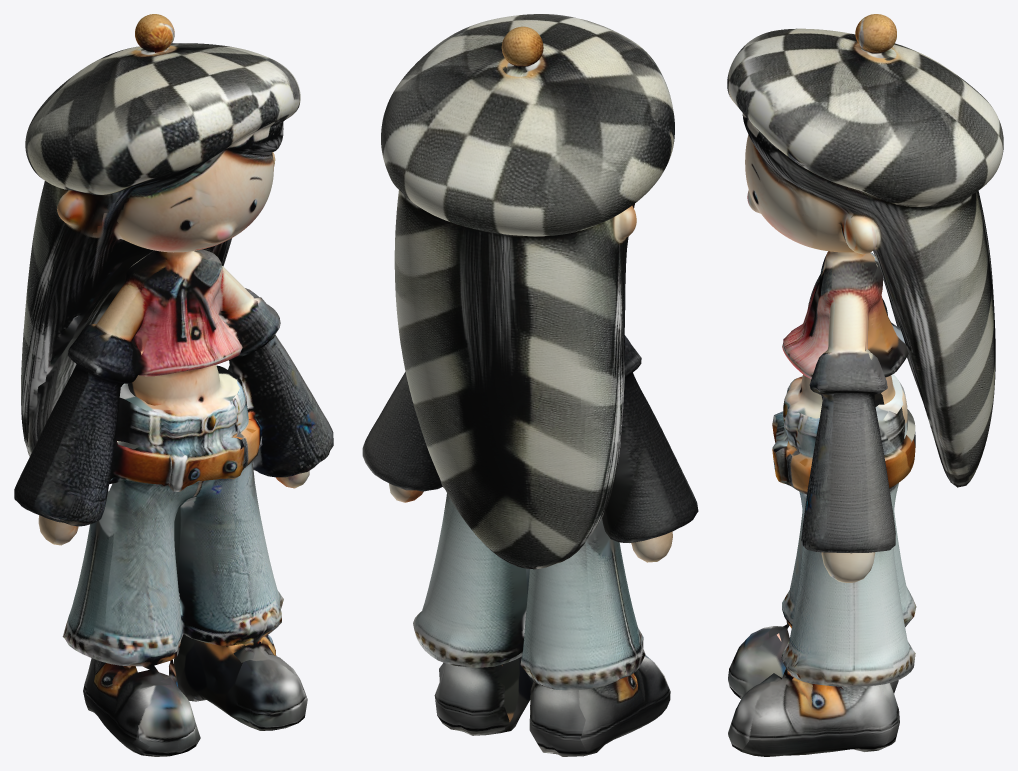
3 views of the same model, side by side, from view 1: azimuth 30°, elevation 25°; view 2: azimuth 150°, elevation 25°; view 3: azimuth 270°, elevation 25° (orthographic). The views are drawn at different scales.
Visible parts, largest first — view 1: Doll; view 2: Doll; view 3: Doll.
Part boxes in pixels (x1,y1,x2,y2): Doll: (14,14,333,756); Doll: (362,14,698,756); Doll: (727,14,1003,756).
Bounding box in the file's own units: 0.1658 × 0.35 × 0.1254.
1 material, 1 textured.
